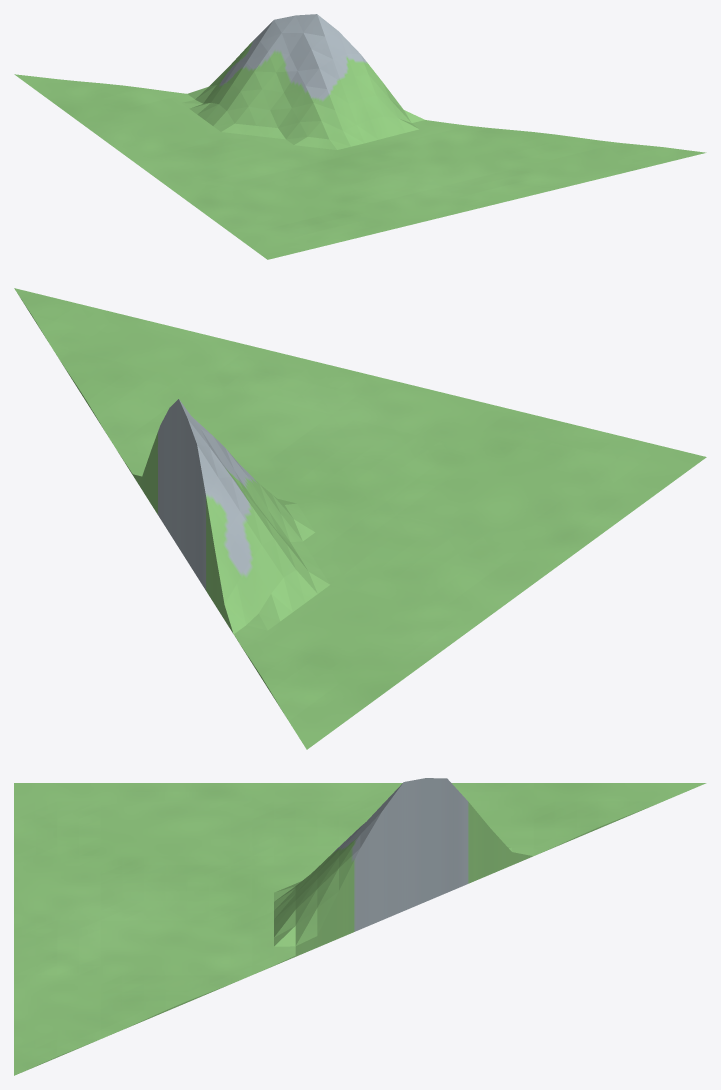
File: Grass_RockyMountains_06_NW.obj
3 renders of one model, top to bottom at view 1: azimuth 30°, elevation 25°; view 2: azimuth 150°, elevation 25°; view 3: azimuth 270°, elevation 25°, orthographic. The views are drawn at different scales.
Bounding box in the file's own units: 10 × 2.06 × 10.
Materials: 1 (1 with a texture image).
